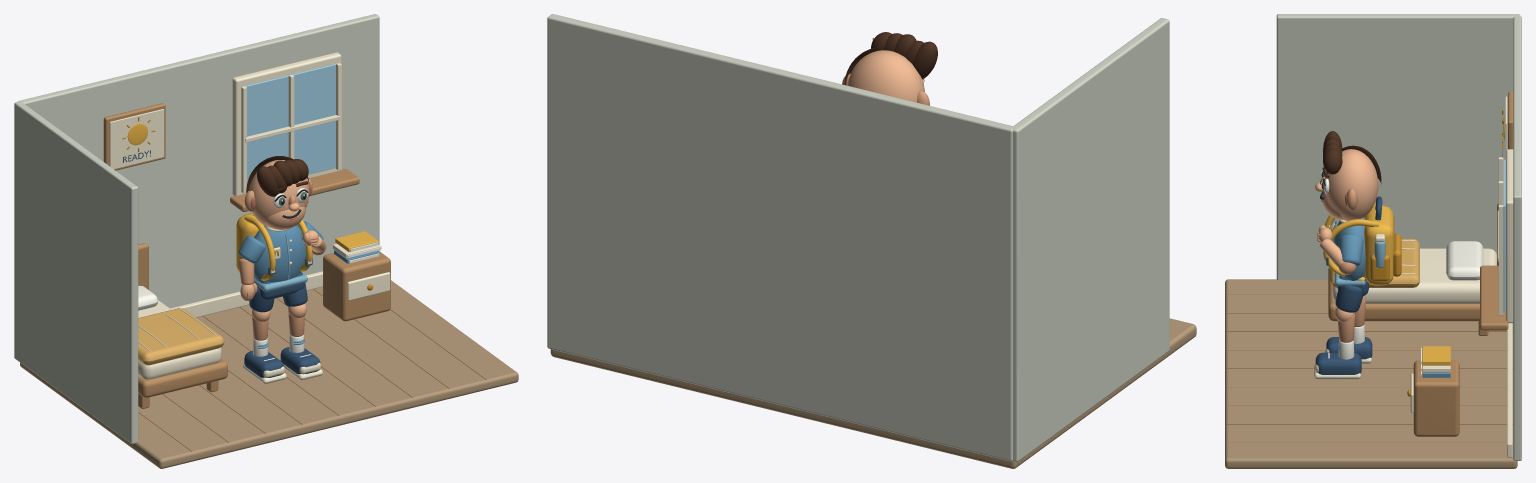
The model's file is result.glb.
The picture shows the model from 3 angles, left to right: view 1: azimuth 30°, elevation 25°; view 2: azimuth 150°, elevation 25°; view 3: azimuth 270°, elevation 25°; orthographic projection. The views are drawn at different scales.
Visible parts, largest first — view 1: Back_wall, Floor_platform, Left_wall, Window_glass, Duvet, Nightstand, Window_frame, Wall_print_paper, Shirt_torso, Bed_frame, Mattress, Back_skirting (+14 smaller); view 2: Back_wall, Left_wall, Floor_platform, Head, Swept_fringe_0; view 3: Left_wall, Floor_platform, Back_wall, Mattress, Nightstand, Head, Bed_frame, Window_sill, Backpack_body, Pillow, Window_frame, Duvet (+18 smaller).
Boxes of the visible parts, left/top/right/bottom form: Back_wall: left=17, top=14, right=379, bottom=308; Floor_platform: left=20, top=280, right=518, bottom=468; Left_wall: left=14, top=101, right=138, bottom=444; Window_glass: left=245, top=64, right=335, bottom=183; Duvet: left=138, top=308, right=224, bottom=365; Nightstand: left=323, top=250, right=390, bottom=321; Window_frame: left=232, top=52, right=341, bottom=195; Wall_print_paper: left=109, top=109, right=164, bottom=169; Shirt_torso: left=254, top=225, right=306, bottom=282; Bed_frame: left=138, top=359, right=227, bottom=397; Mattress: left=138, top=300, right=221, bottom=379; Back_skirting: left=170, top=271, right=322, bottom=317; Back_wall: left=547, top=14, right=1013, bottom=461; Left_wall: left=1012, top=18, right=1169, bottom=461; Floor_platform: left=550, top=318, right=1196, bottom=468; Head: left=847, top=50, right=924, bottom=102; Swept_fringe_0: left=912, top=41, right=937, bottom=79; Left_wall: left=1276, top=14, right=1520, bottom=279; Floor_platform: left=1225, top=279, right=1517, bottom=468; Back_wall: left=1513, top=16, right=1521, bottom=460; Mattress: left=1332, top=248, right=1496, bottom=303; Nightstand: left=1413, top=360, right=1459, bottom=436; Head: left=1325, top=149, right=1378, bottom=221; Bed_frame: left=1328, top=268, right=1479, bottom=321; Window_sill: left=1480, top=265, right=1508, bottom=330; Backpack_body: left=1364, top=205, right=1394, bottom=285; Pillow: left=1446, top=241, right=1483, bottom=280; Window_frame: left=1506, top=149, right=1513, bottom=323; Duvet: left=1330, top=238, right=1419, bottom=287.
Bounding box in the file's own units: 4.45 × 3.1 × 3.05.
